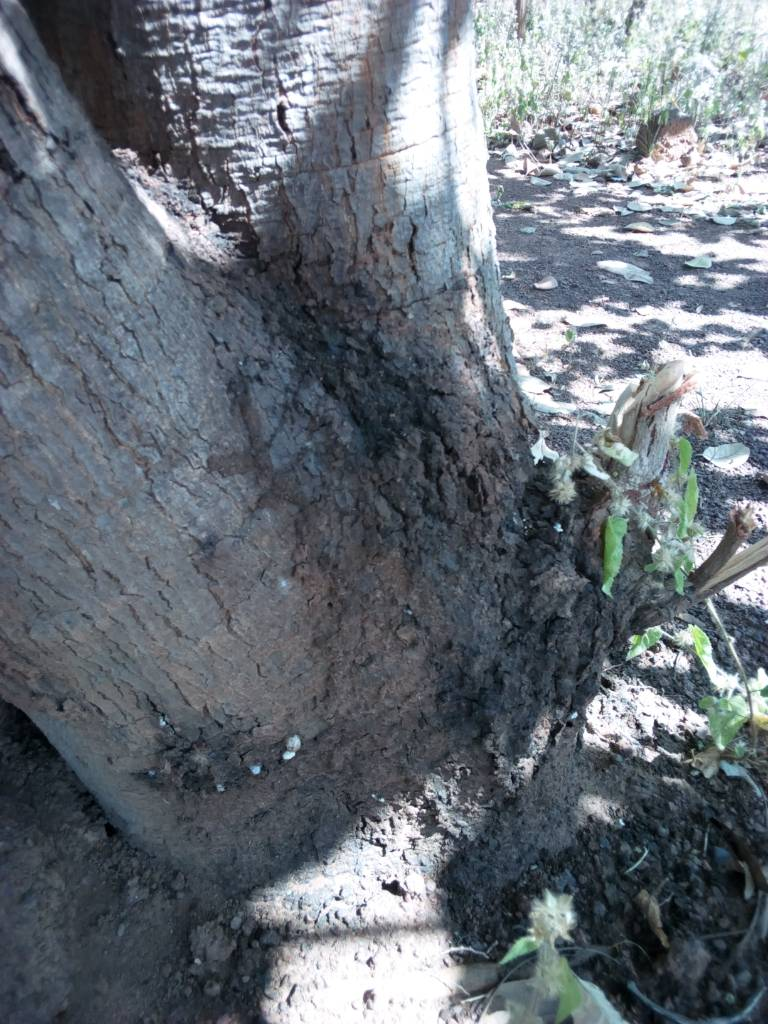Termites: (258, 330, 587, 716)
